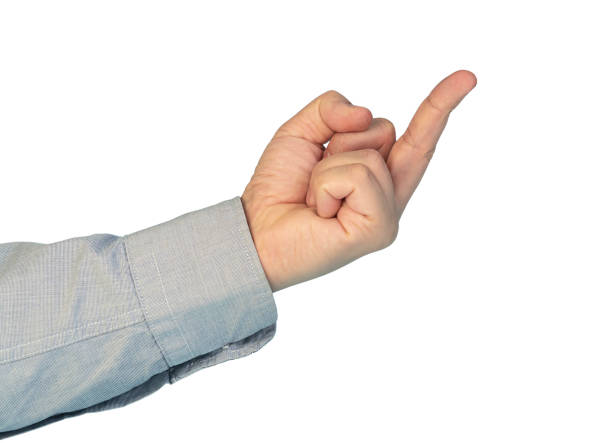insulting_gesture: (240, 66, 483, 289)
